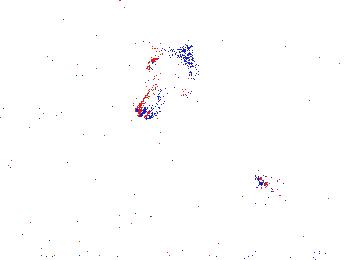flame jellyfish: (69, 172, 156, 228), (135, 50, 199, 120), (250, 168, 301, 219)
